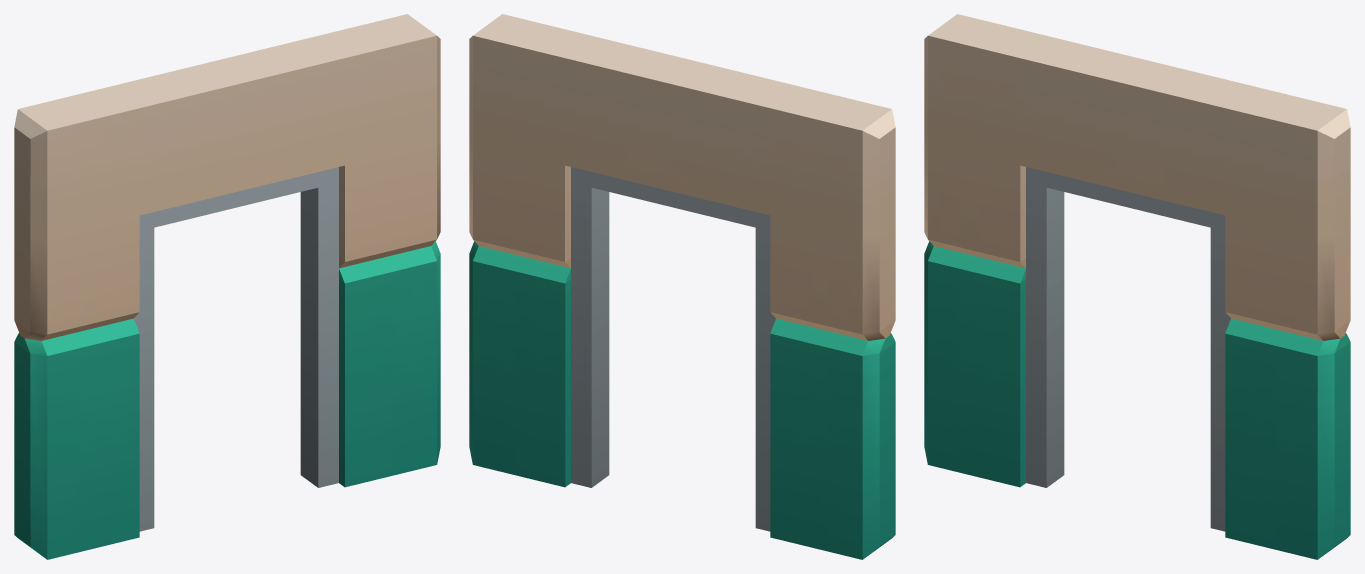
Rendered from kaykit-restaurant-bits-wall-doorway.glb.
3 views of the same model, side by side, from view 1: azimuth 30°, elevation 25°; view 2: azimuth 150°, elevation 25°; view 3: azimuth 330°, elevation 25° (orthographic).
Parts seen in each view (by area): view 1: wall_doorway; view 2: wall_doorway; view 3: wall_doorway.
Boxes of the visible parts, bbox=[...] form: wall_doorway: bbox=[14, 14, 440, 559]; wall_doorway: bbox=[469, 14, 895, 559]; wall_doorway: bbox=[924, 14, 1350, 559].
Bounding box in the file's own units: 4 × 4 × 0.5.
Materials: 1 (1 with a texture image).
